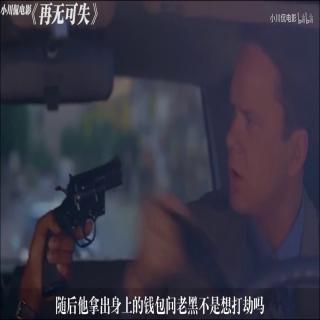gun: (37, 154, 134, 301)
